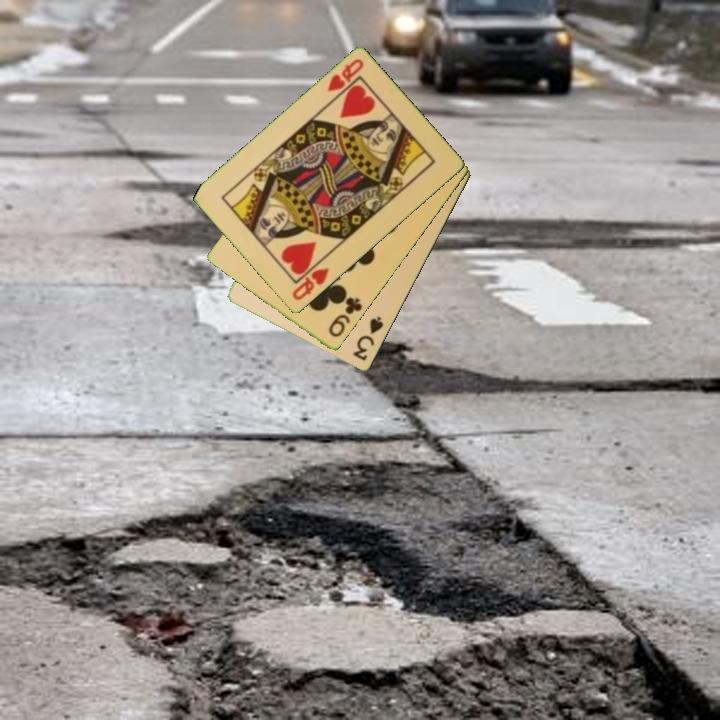3s: (349, 313, 387, 364)
9c: (325, 294, 365, 341)
Qh: (289, 264, 332, 304), (323, 56, 367, 95)
